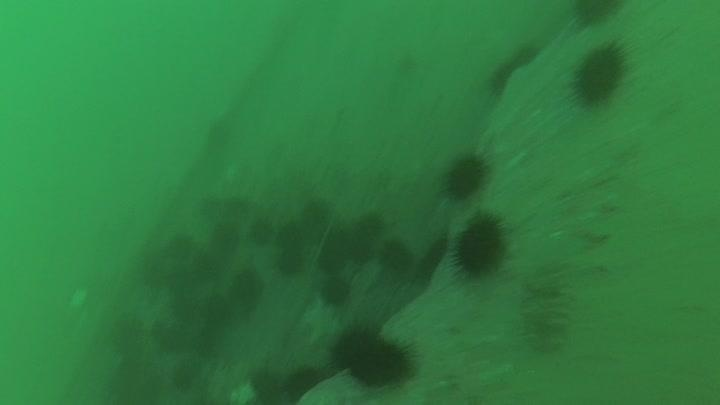echinus: (330, 324, 417, 389), (567, 39, 631, 109), (449, 210, 511, 281), (484, 41, 543, 99), (441, 151, 491, 202), (281, 363, 327, 402), (246, 365, 291, 404), (415, 234, 450, 284), (228, 266, 266, 311), (567, 1, 626, 29), (377, 237, 415, 276), (348, 210, 387, 245), (318, 274, 354, 309), (313, 246, 349, 281), (322, 221, 358, 256), (341, 237, 377, 272), (208, 219, 242, 256), (274, 243, 307, 278), (302, 197, 330, 234), (278, 214, 305, 251), (247, 216, 276, 249)
holothurian: (518, 268, 572, 354)
starfish: (299, 301, 344, 347)
